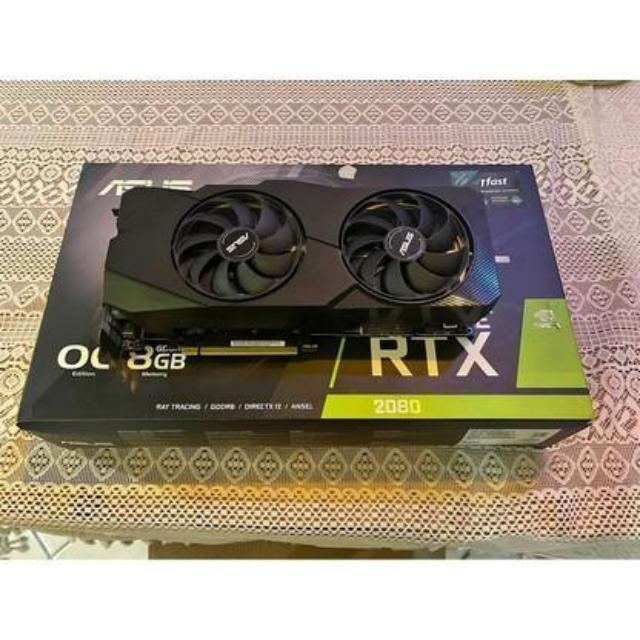GPU: (109, 182, 502, 356)
